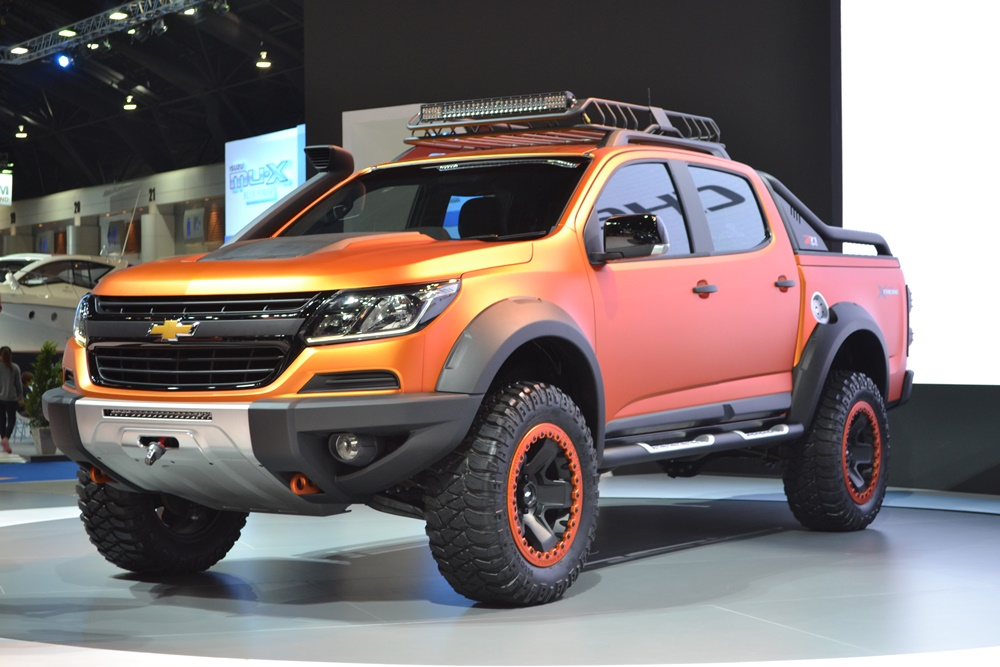pickup: (39, 121, 918, 607)
